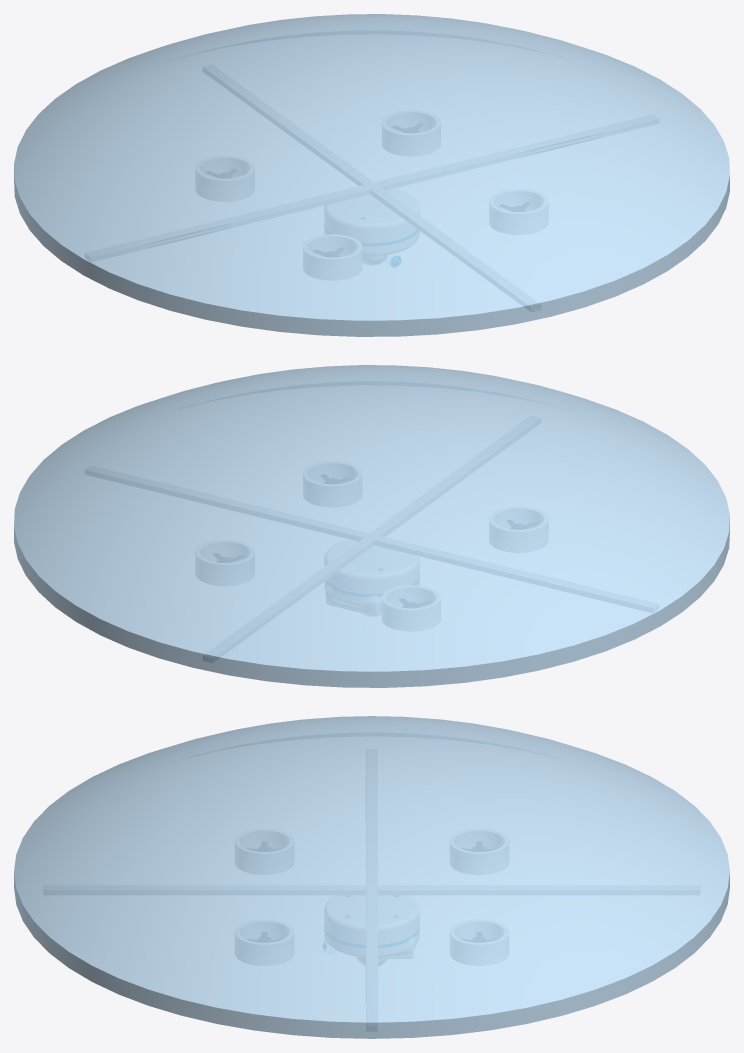
3 renders of one model, top to bottom at view 1: azimuth 30°, elevation 25°; view 2: azimuth 150°, elevation 25°; view 3: azimuth 270°, elevation 25°, orthographic.
Visible parts, largest first — view 1: shade, rib-frame, rib-frame2; view 2: shade, rib-frame, rib-frame2; view 3: shade, rib-frame2, core, rib-frame.
Boxes of the visible parts, box(x1,y1,x2,y2) form: shade: box(14, 14, 729, 336); rib-frame: box(86, 117, 658, 260); rib-frame2: box(203, 66, 538, 308); shade: box(14, 365, 729, 687); rib-frame: box(86, 466, 658, 609); rib-frame2: box(210, 416, 538, 657); shade: box(14, 716, 729, 1038); rib-frame2: box(44, 886, 697, 894); core: box(324, 896, 418, 958); rib-frame: box(366, 750, 377, 1030).
Size of the model in its own units: 1.2 by 0.343 by 1.2.
